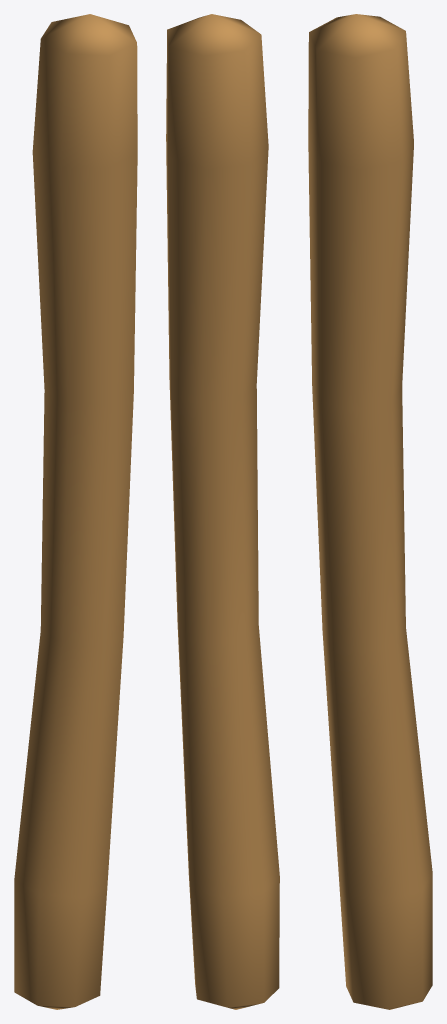
The model's file is tarsus_T2_right_leg.obj.
3 views of the same model, side by side, from view 1: azimuth 90°, elevation 25°; view 2: azimuth 210°, elevation 25°; view 3: azimuth 270°, elevation 25° (orthographic).
Size of the model in its own units: 0.00383 by 0.0405 by 0.00457.
